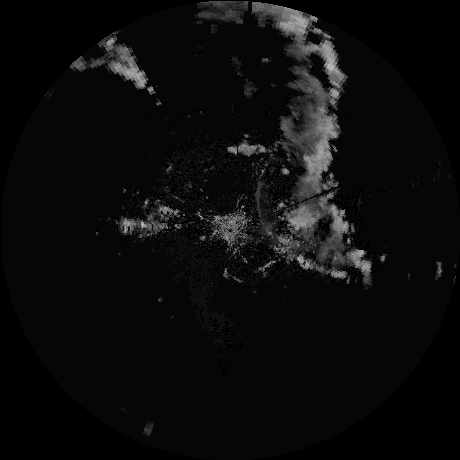frontgust: (255, 165, 283, 239)
